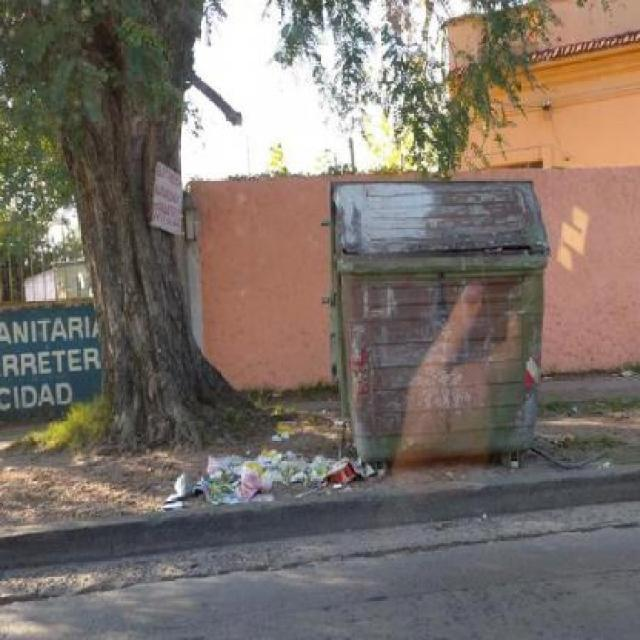garbage: (157, 440, 391, 514), (140, 153, 190, 242), (270, 400, 319, 453), (559, 422, 586, 458)
